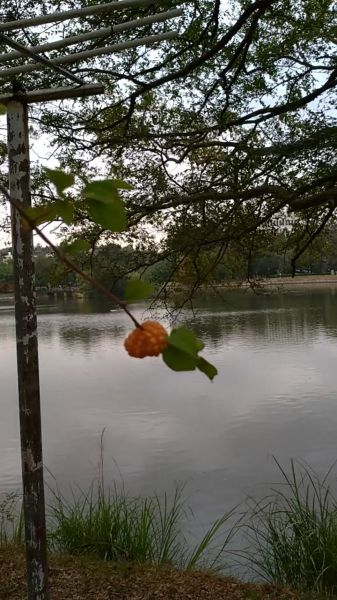eggs: (120, 318, 173, 361)
